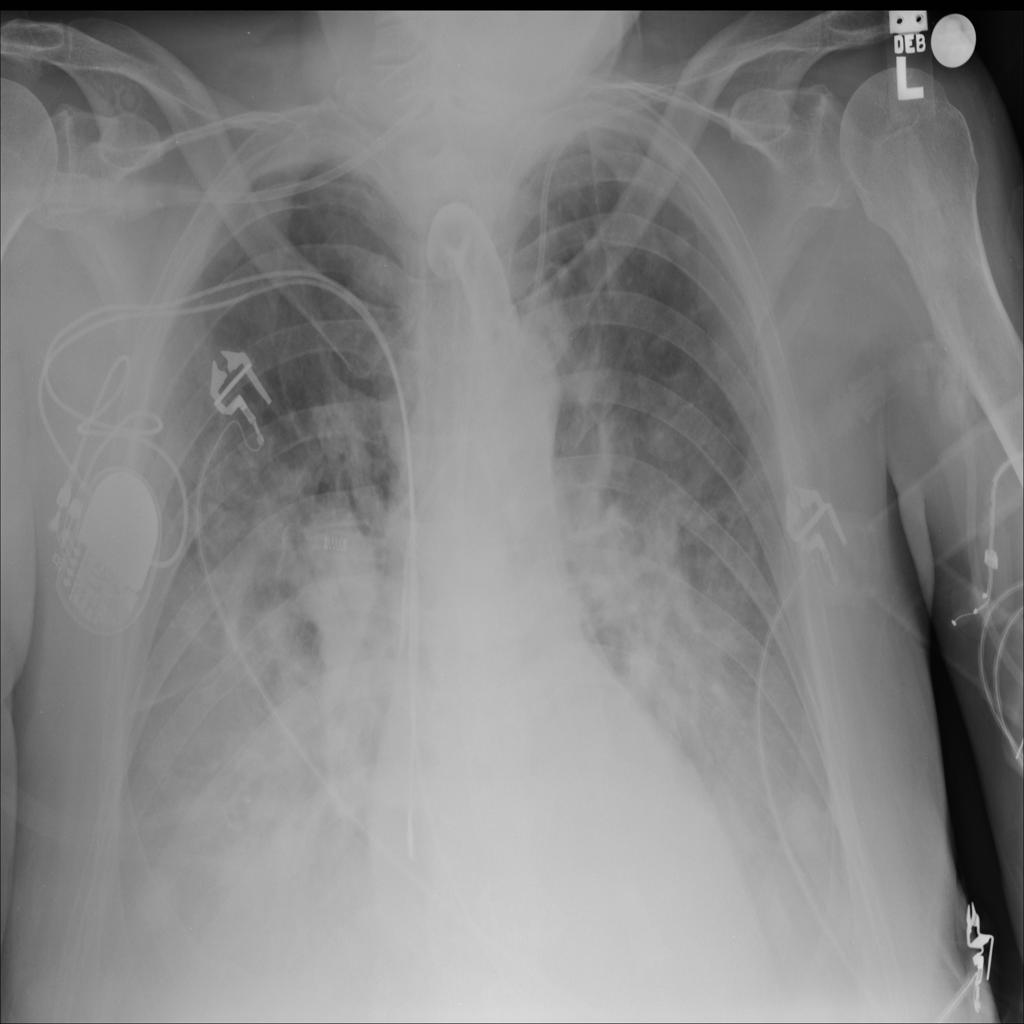nodule: (559, 463, 698, 653), (279, 493, 400, 684), (633, 366, 728, 498), (771, 780, 838, 873), (557, 339, 627, 422), (659, 214, 704, 270)
